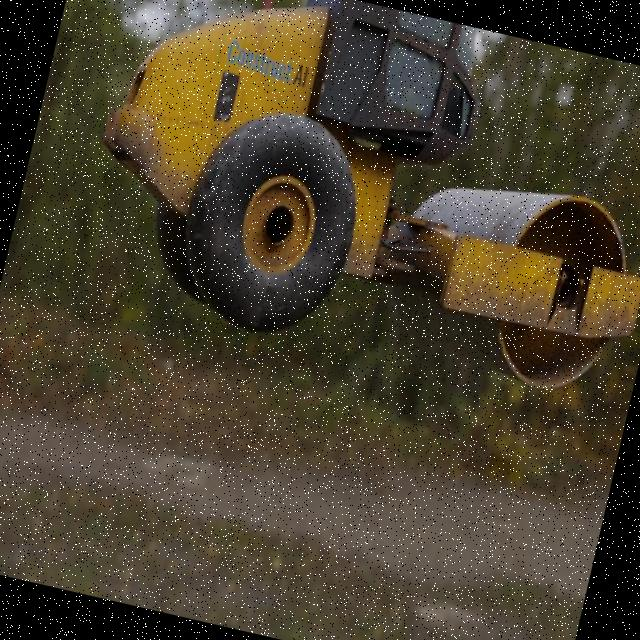Roller: (65, 0, 640, 416)
